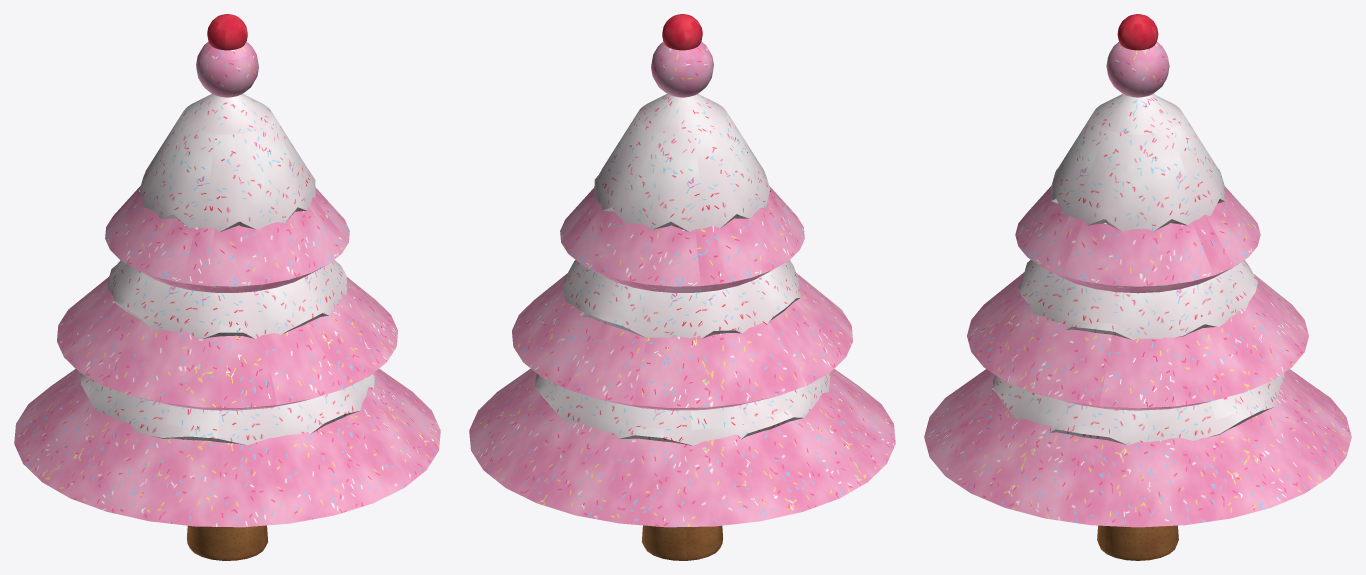
File: GIN_FrostedPineTree.fbx
3 renders of one model, left to right at view 1: azimuth 30°, elevation 25°; view 2: azimuth 150°, elevation 25°; view 3: azimuth 270°, elevation 25°, orthographic.
Visible parts, largest first — view 1: GIN_FrostedPineTree; view 2: GIN_FrostedPineTree; view 3: GIN_FrostedPineTree.
Boxes of the visible parts, x1,y1,x2,y2 form: GIN_FrostedPineTree: (14, 14, 440, 560); GIN_FrostedPineTree: (469, 14, 895, 560); GIN_FrostedPineTree: (924, 14, 1351, 560).
Size of the model in its own units: 2.3 by 3.15 by 2.3.
